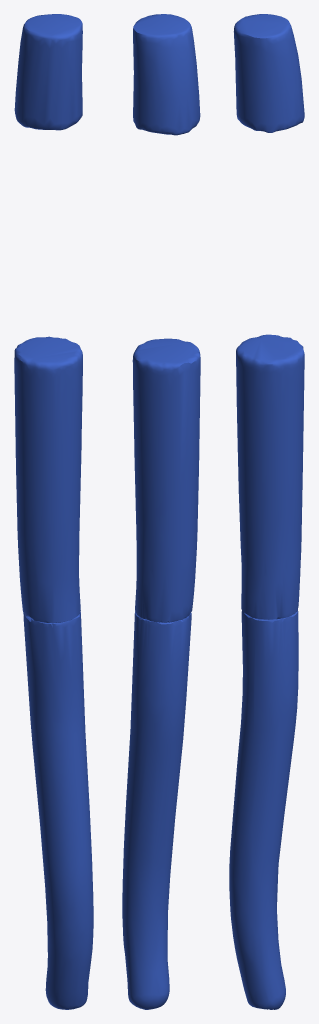
Rendered from vena-cava.glb.
3 views of the same model, side by side, from view 1: azimuth 30°, elevation 25°; view 2: azimuth 210°, elevation 25°; view 3: azimuth 270°, elevation 25° (orthographic).
Visible parts, largest first — view 1: inferior_vena_cava, superior_vena_cava; view 2: inferior_vena_cava, superior_vena_cava; view 3: inferior_vena_cava, superior_vena_cava.
Boxes of the visible parts, <box> form: inferior_vena_cava: <box>14,336,93,1009</box>; superior_vena_cava: <box>14,14,82,130</box>; inferior_vena_cava: <box>122,338,200,1009</box>; superior_vena_cava: <box>133,14,200,135</box>; inferior_vena_cava: <box>229,334,304,1009</box>; superior_vena_cava: <box>233,14,304,132</box>.
Bounding box in the file's own units: 0.0248 × 0.3589 × 0.0252.
